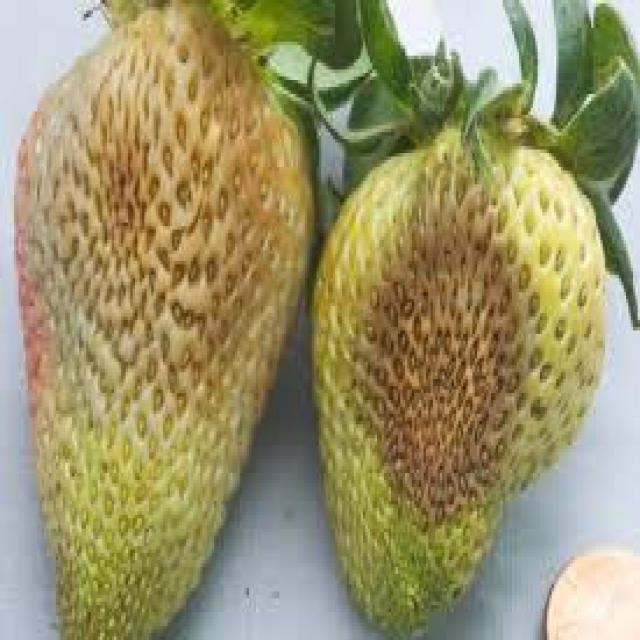Podredumbre de cuero: (12, 17, 310, 640), (316, 99, 616, 633)
